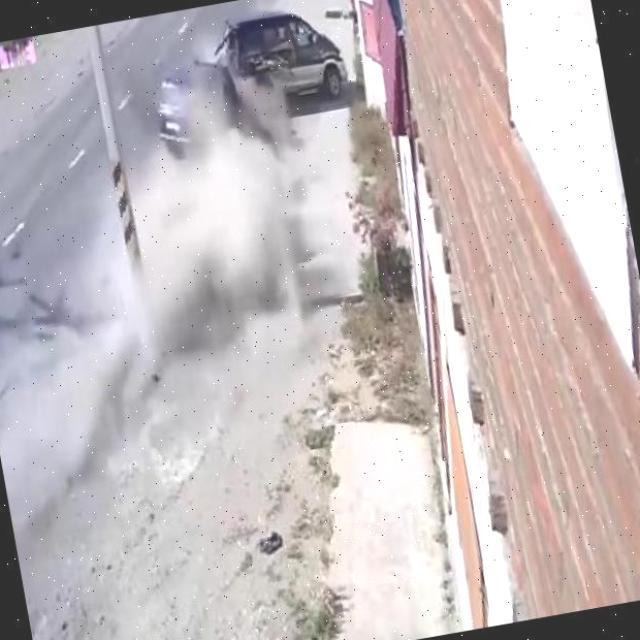accident: (166, 18, 308, 143)
